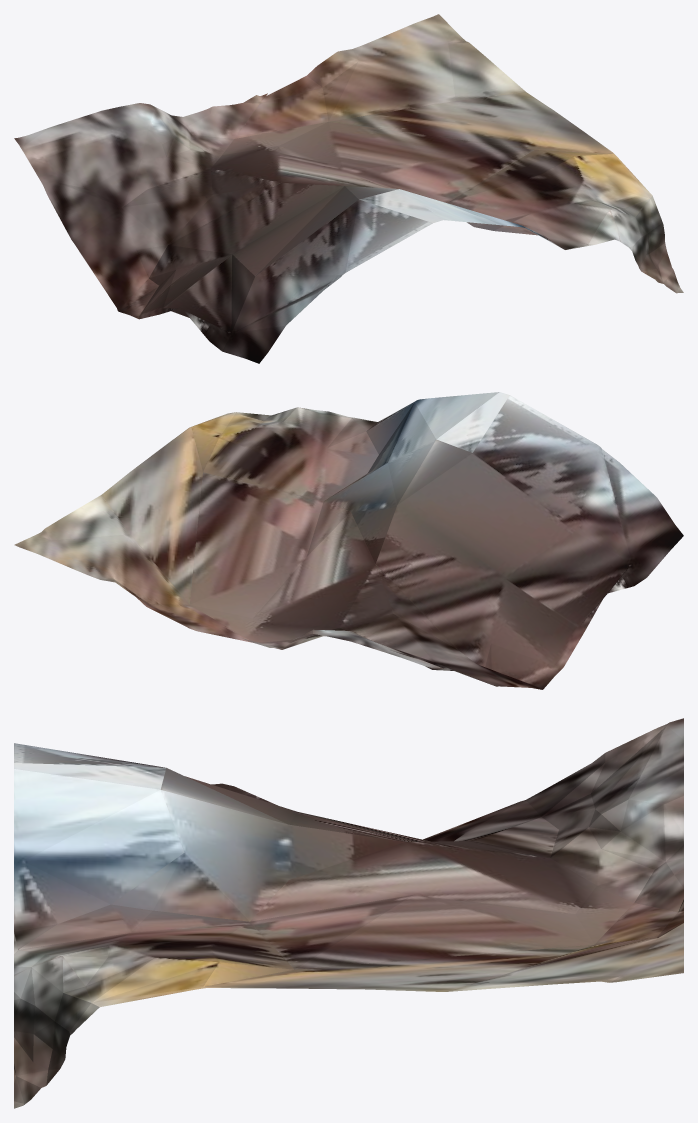
The picture shows the model from 3 angles, top to bottom: view 1: azimuth 30°, elevation 25°; view 2: azimuth 150°, elevation 25°; view 3: azimuth 270°, elevation 25°; orthographic projection. The views are drawn at different scales.
Size of the model in its own units: 1.67 by 0.5634 by 1.67.
Materials: 3 (3 with a texture image).
